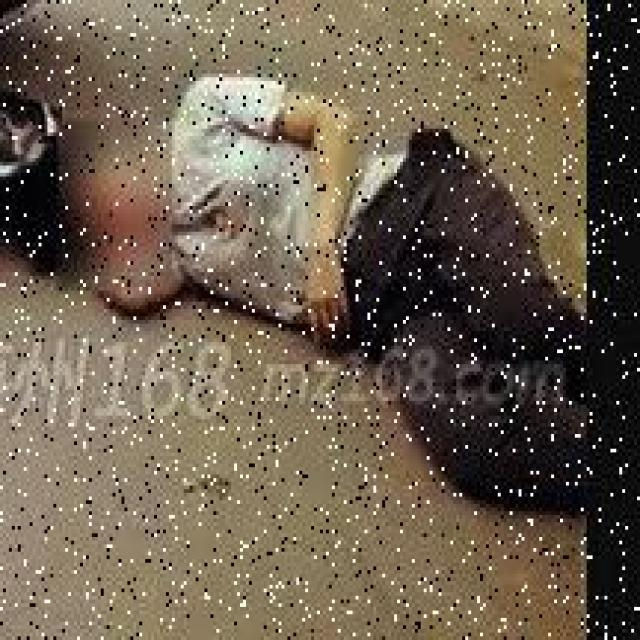fall: (39, 77, 584, 500)
